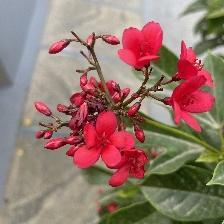jatropha: (117, 14, 167, 72)
